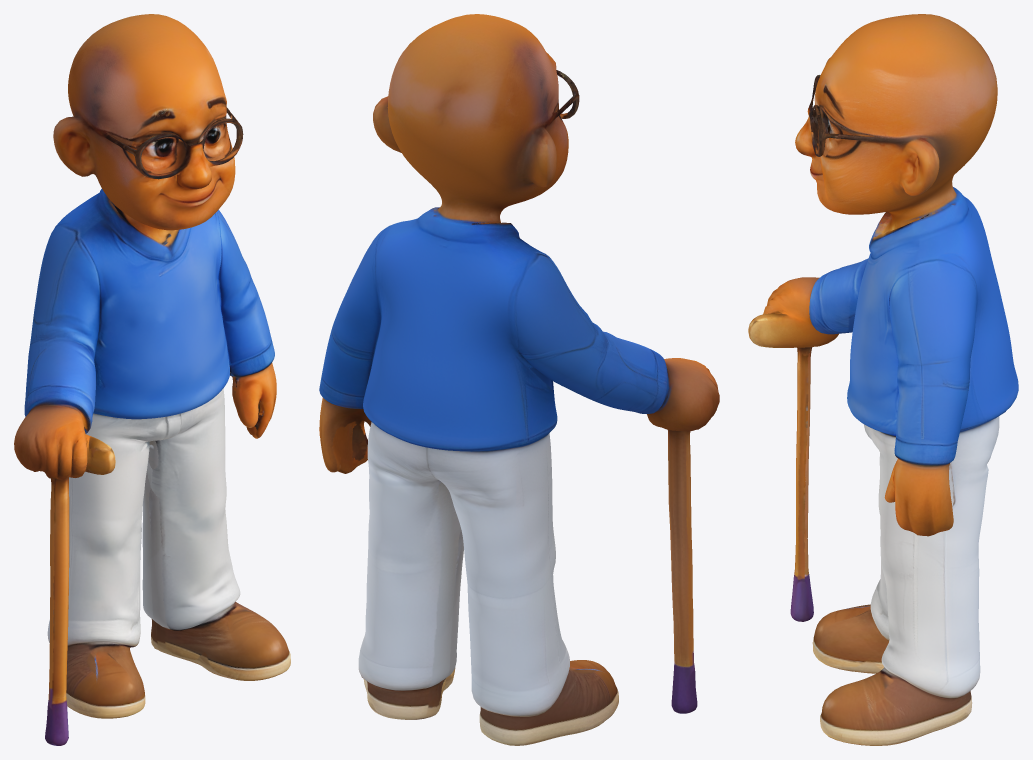
The model's file is abuelo.glb.
3 renders of one model, left to right at view 1: azimuth 30°, elevation 25°; view 2: azimuth 150°, elevation 25°; view 3: azimuth 270°, elevation 25°, orthographic. The views are drawn at different scales.
Visible parts, largest first — view 1: model; view 2: model; view 3: model.
Part boxes in pixels (bbox=[...]): model: bbox=[14, 14, 290, 745]; model: bbox=[319, 14, 719, 745]; model: bbox=[748, 14, 1018, 745].
Size of the model in its own units: 0.9472 by 1.9 by 0.6947.
1 material, 1 textured.
